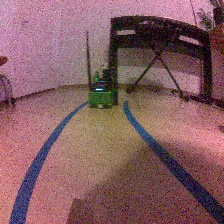rob: (86, 68, 118, 109)
